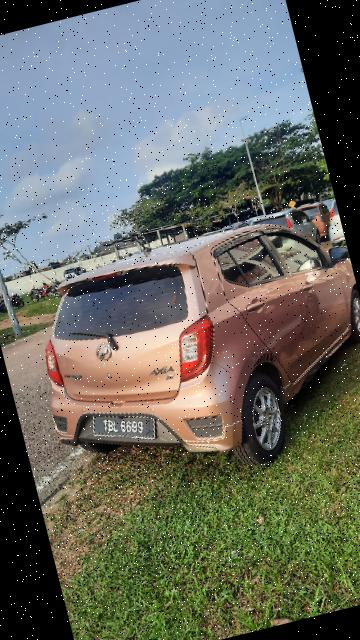License_Plate: (85, 395, 167, 459)
car: (9, 208, 360, 512)
